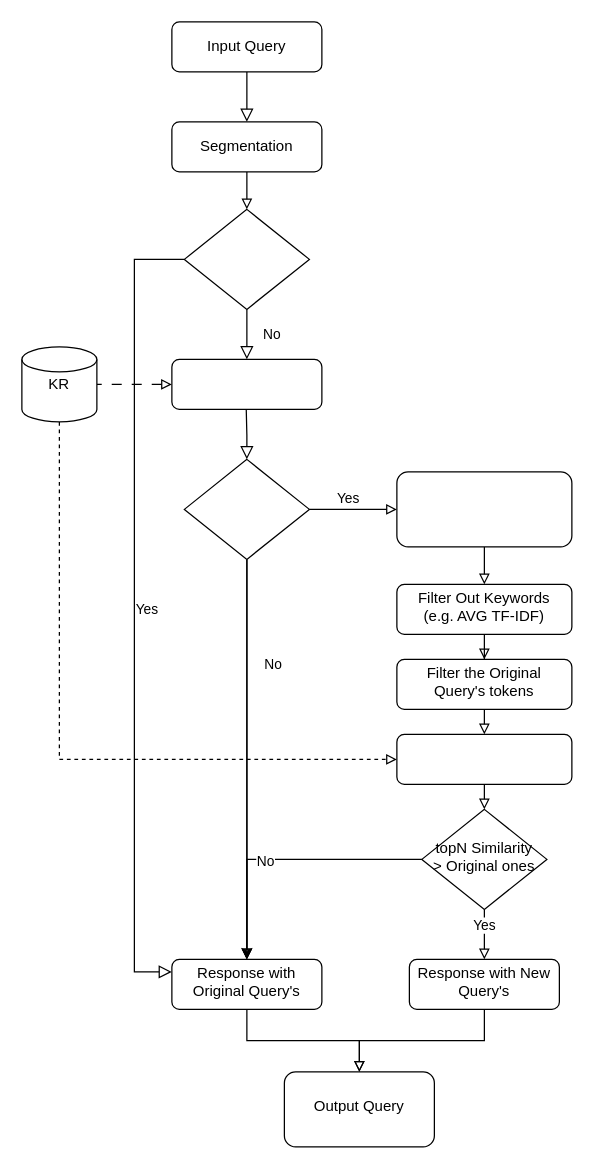
Image size: 594x1169. Some labels were removed from this diagram. The box of each missing label's shape, as (x1, y1, x2, y2) in pixels:
Calculate Word Weight with Original Query Result (e.g. TF-IDF): (396, 471, 572, 547)
Search with Filtered Query: (396, 733, 572, 784)
Search with query and get Similarity: (171, 358, 322, 409)
Structured Content?: (183, 208, 309, 309)
topN Similarity < Threshold: (183, 458, 309, 559)
